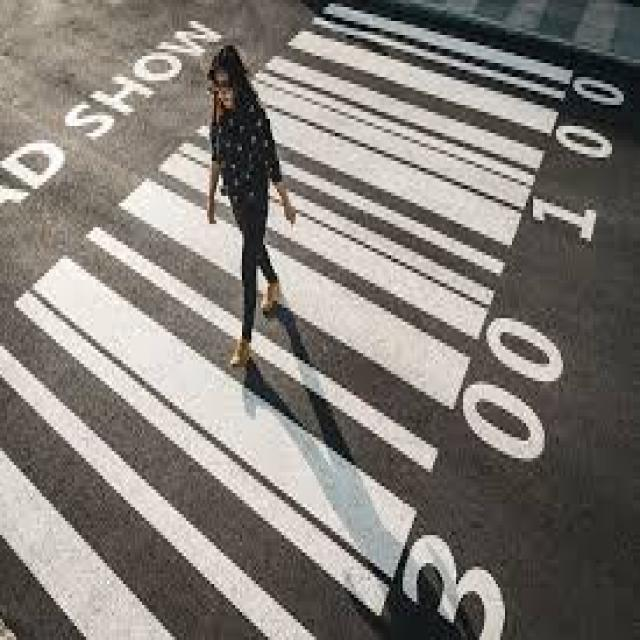Pedestrians: (202, 42, 286, 378)
